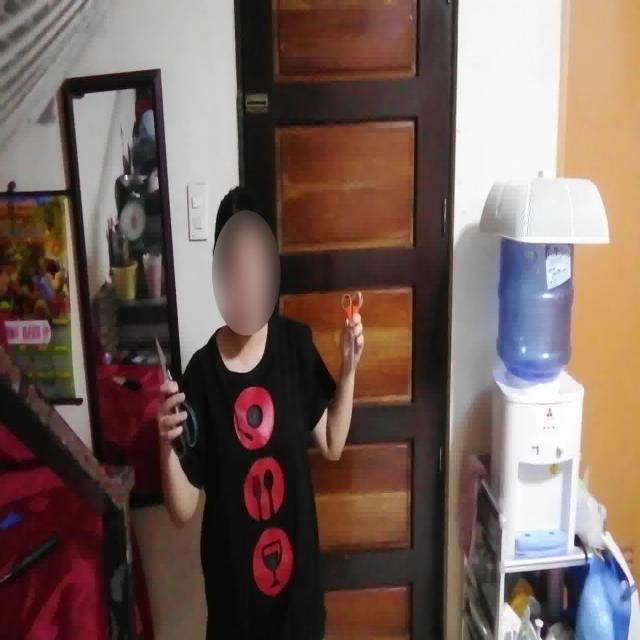scissor: (156, 334, 199, 460), (341, 289, 364, 376)
